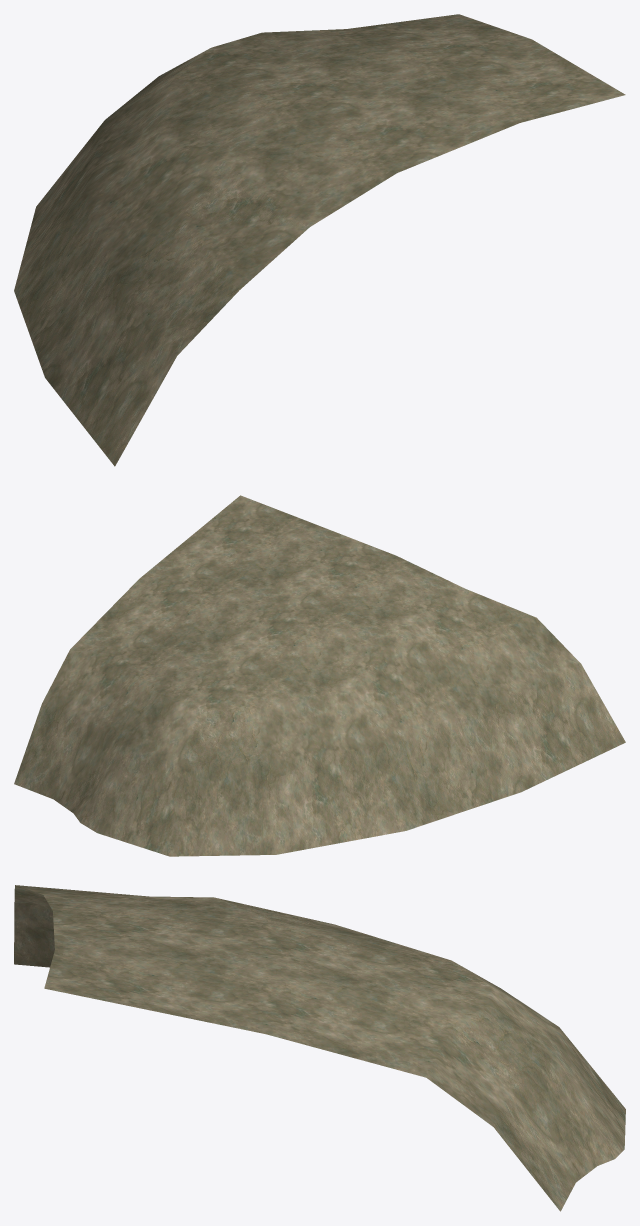
File: OVERHILL_A_01_OBJECT158.fbx
3 views of the same model, one above another, from view 1: azimuth 30°, elevation 25°; view 2: azimuth 150°, elevation 25°; view 3: azimuth 270°, elevation 25° (orthographic). The views are drawn at different scales.
Visible parts, largest first — view 1: OVERHILL_A_01_OBJECT158; view 2: OVERHILL_A_01_OBJECT158; view 3: OVERHILL_A_01_OBJECT158.
Part boxes in pixels (x1,y1,x2,y2): OVERHILL_A_01_OBJECT158: (14, 14, 625, 466); OVERHILL_A_01_OBJECT158: (14, 495, 625, 856); OVERHILL_A_01_OBJECT158: (14, 885, 625, 1211).
Bounding box in the file's own units: 267199 × 103460 × 264082.
2 materials, 2 textured.
